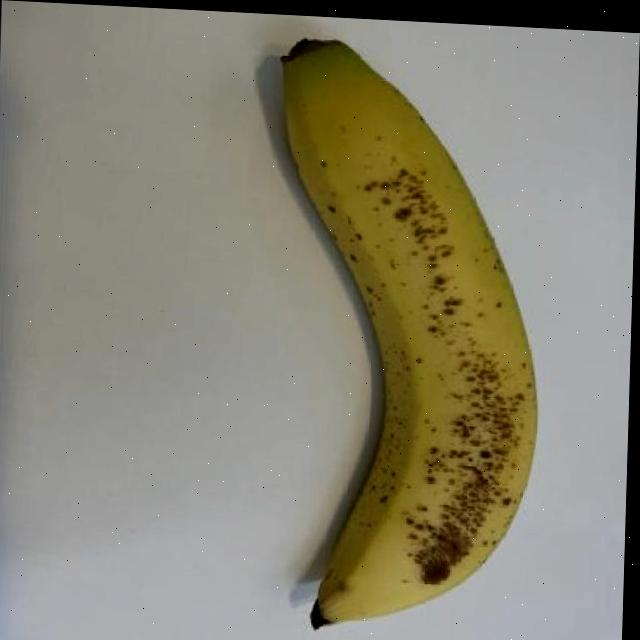banana: (261, 32, 552, 640)
